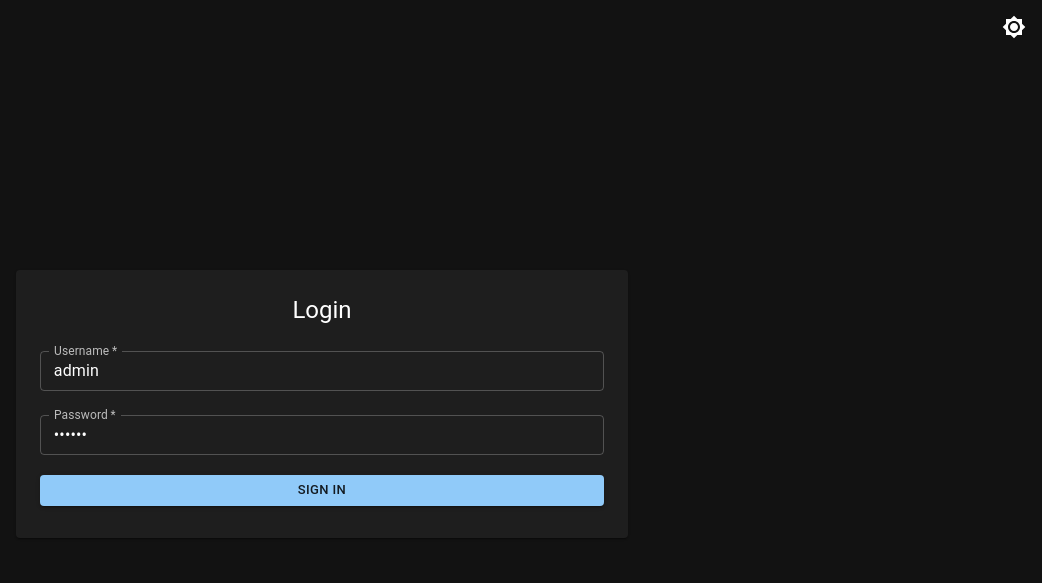
Test: LoginPage › handles failed login response without error message
This screenshot has width=1042, height=583.
Click the button "Sign In" at (322, 490), box [40, 475, 604, 506]
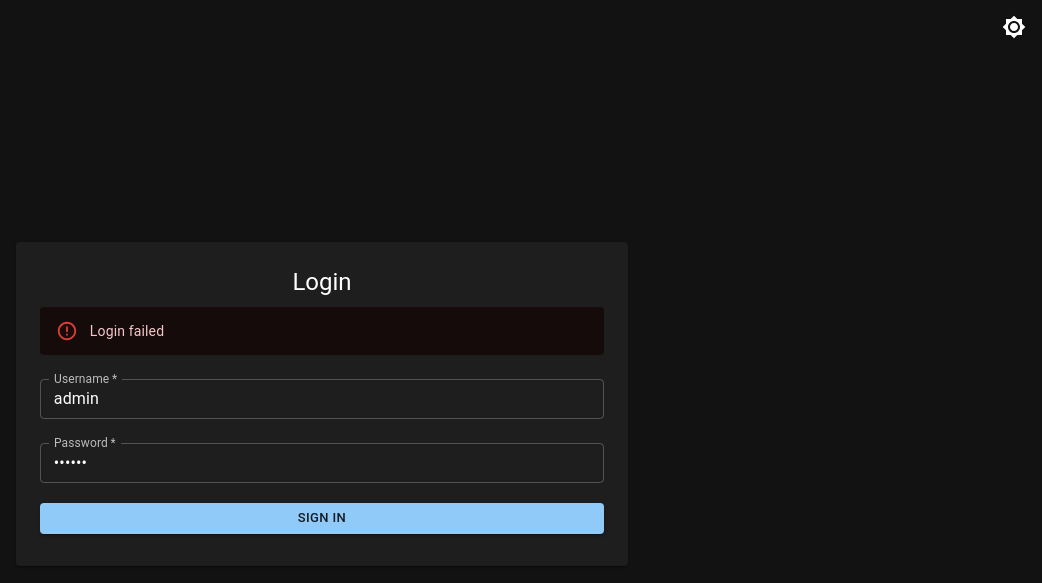
Expected: the text "Login failed" is shown, [90, 323, 164, 339]
